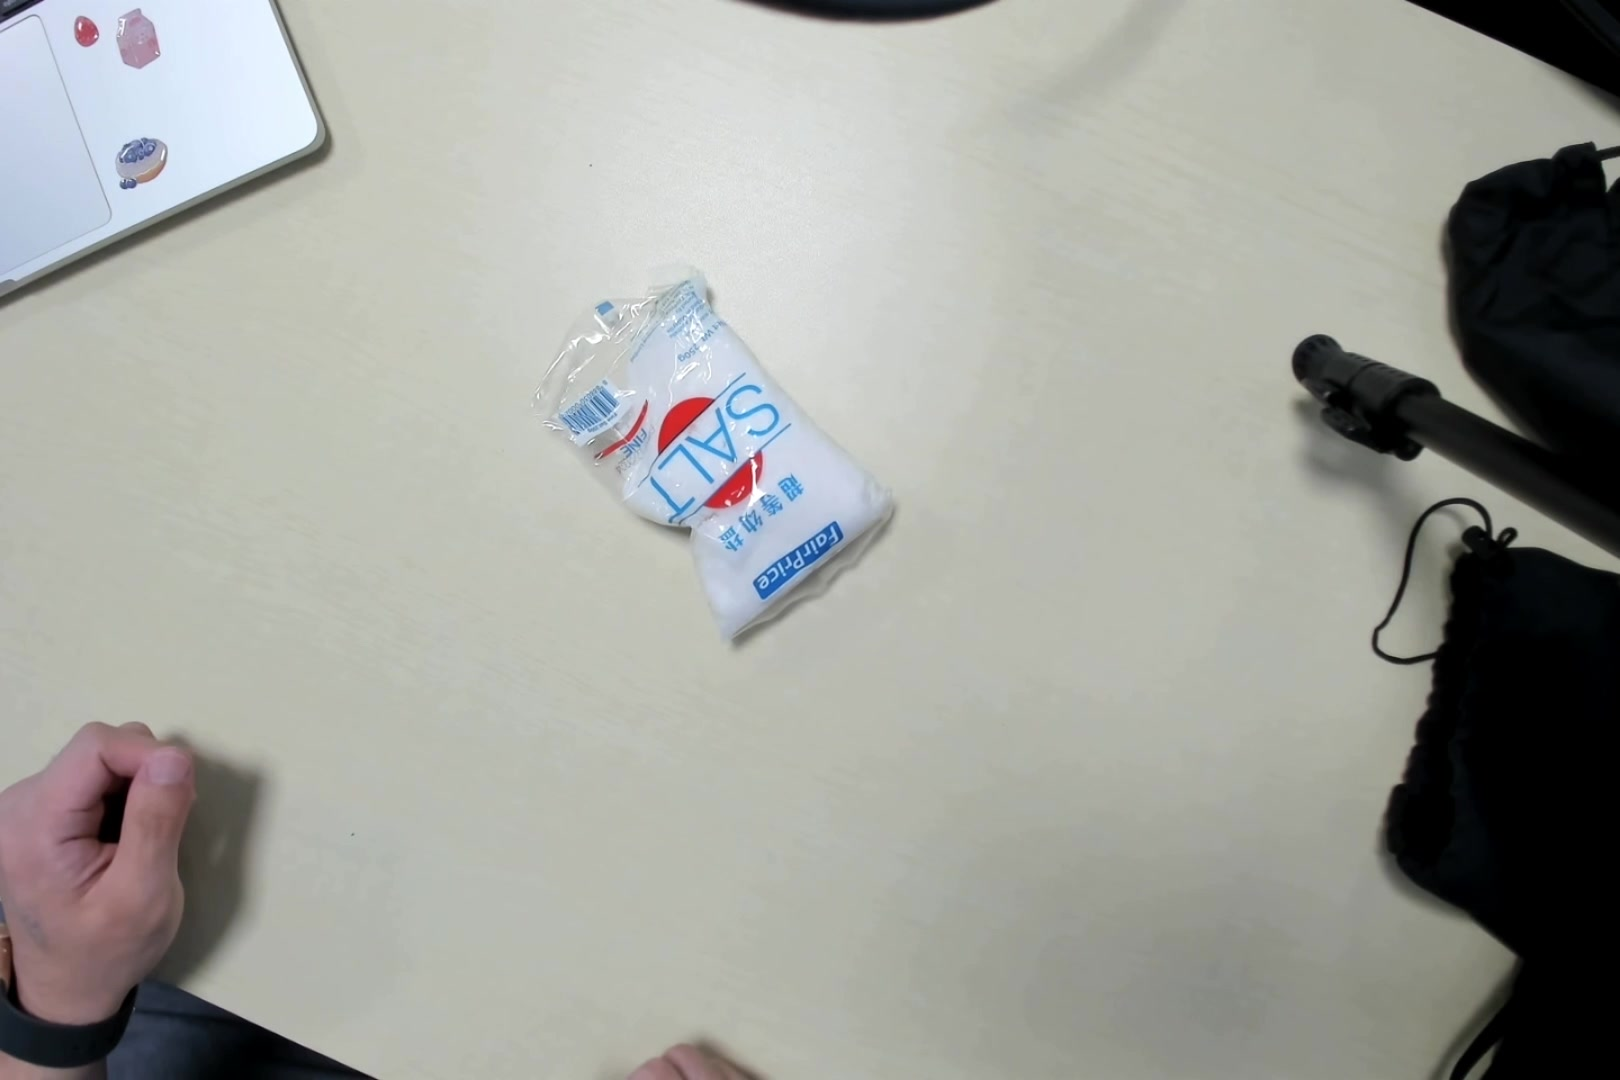Salt_200-299g_Halal_NonHealthy: (539, 270, 888, 642)
